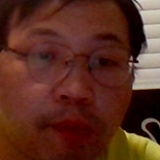face_mask: (139, 157, 160, 160)
